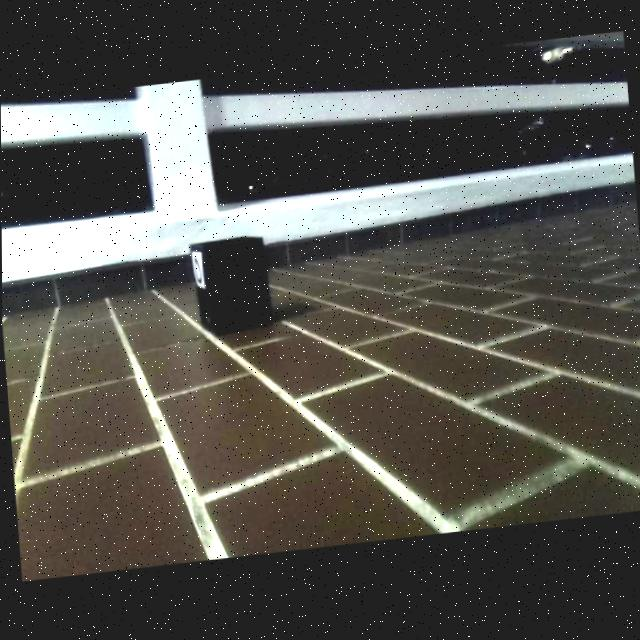D: (191, 258, 202, 287)
